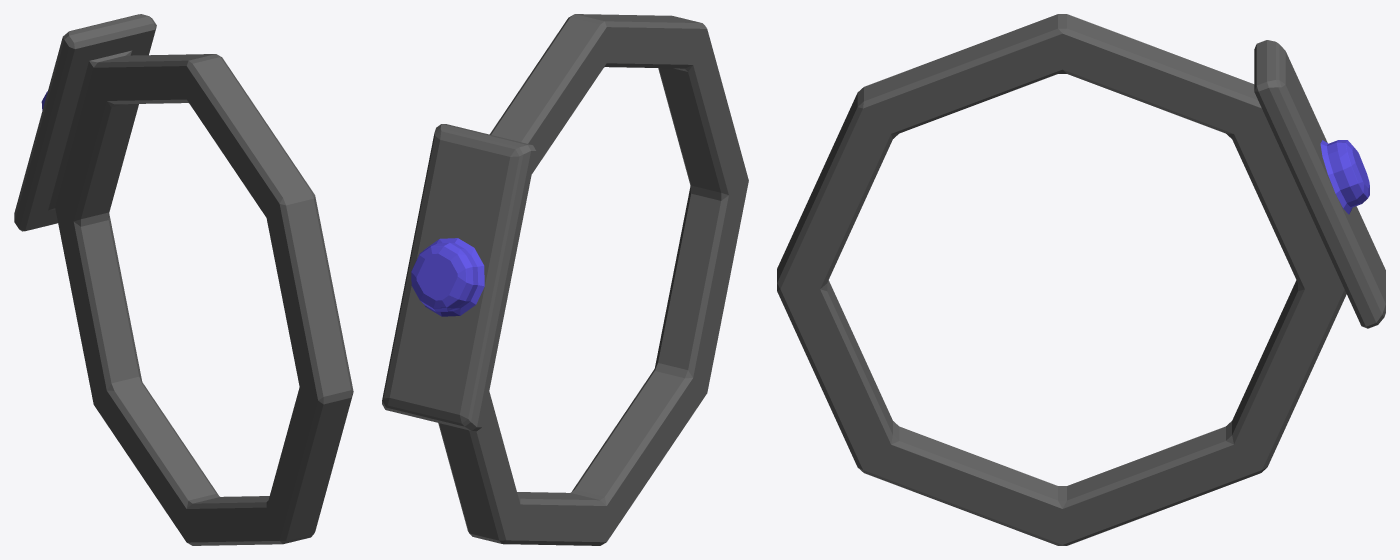
The model's file is ring.fbx.
The picture shows the model from 3 angles, left to right: view 1: azimuth 30°, elevation 25°; view 2: azimuth 150°, elevation 25°; view 3: azimuth 270°, elevation 25°; orthographic projection. The views are drawn at different scales.
Visible parts, largest first — view 1: Circle; view 2: Circle; view 3: Circle.
Boxes of the visible parts, bbox=[...] form: Circle: bbox=[14, 14, 353, 545]; Circle: bbox=[382, 14, 748, 545]; Circle: bbox=[777, 14, 1385, 545].
Bounding box in the file's own units: 37.86 × 199 × 212.
